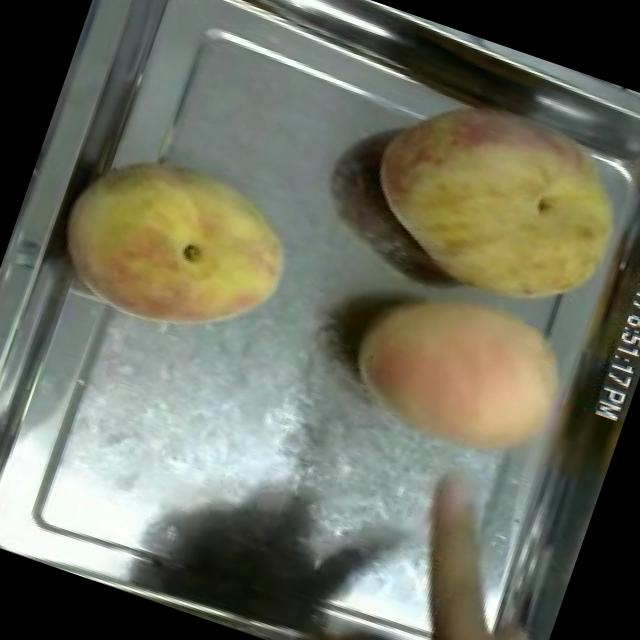Fruit: (337, 57, 640, 342), (35, 122, 317, 370), (320, 253, 600, 496)
